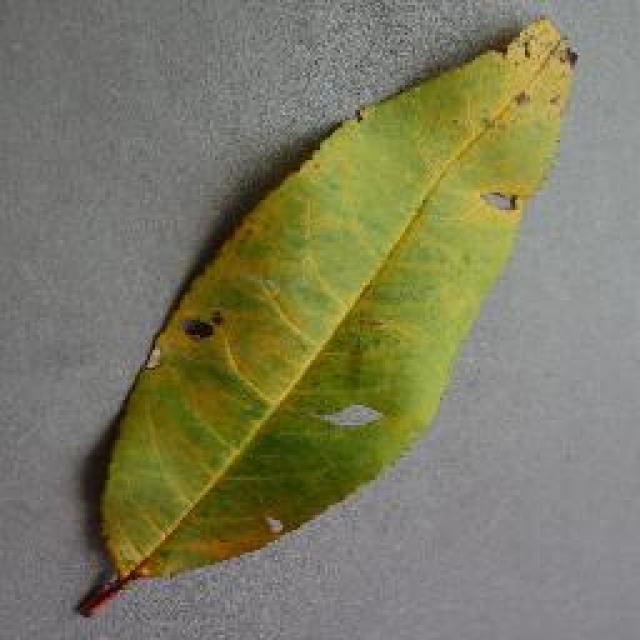Peach_Bacterial_Spot: (162, 178, 575, 395)
